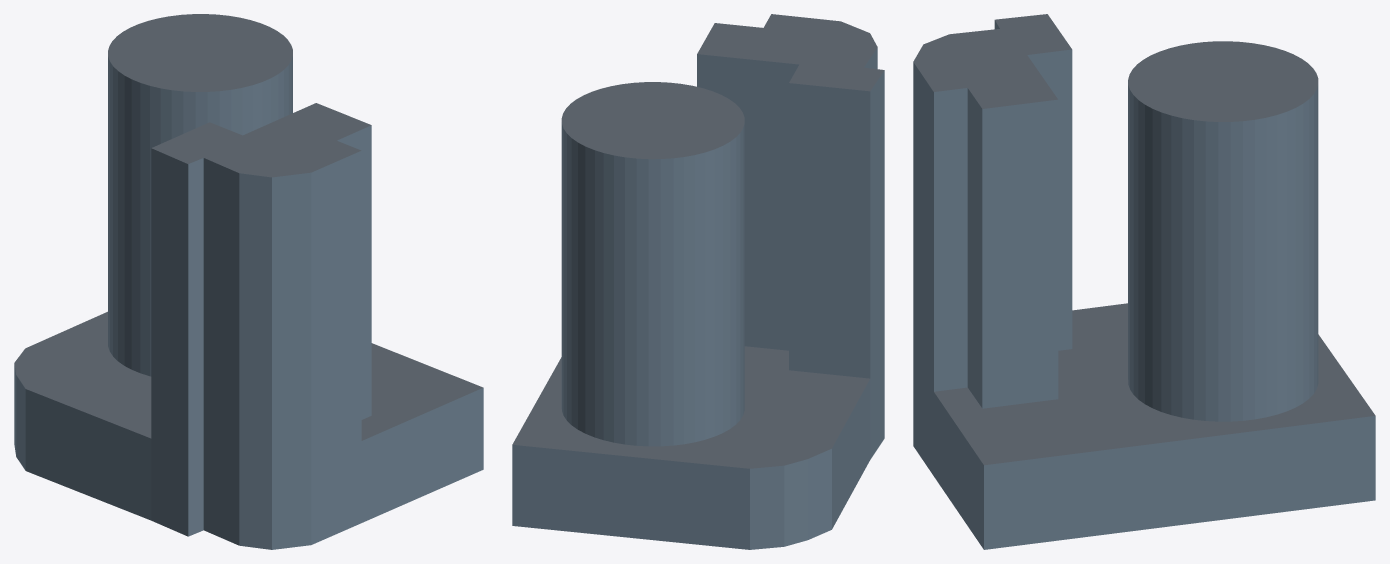
The picture shows the model from 3 angles, left to right: view 1: azimuth 30°, elevation 25°; view 2: azimuth 150°, elevation 25°; view 3: azimuth 270°, elevation 25°; orthographic projection. The views are drawn at different scales.
Parts seen in each view (by area): view 1: HP-w1319592295; view 2: HP-w1319592295; view 3: HP-w1319592295.
Boxes of the visible parts, x1,y1,x2,y2 form: HP-w1319592295: [14, 14, 483, 549]; HP-w1319592295: [512, 14, 884, 549]; HP-w1319592295: [913, 14, 1375, 549].
Bounding box in the file's own units: 66.84 × 69 × 75.26.
